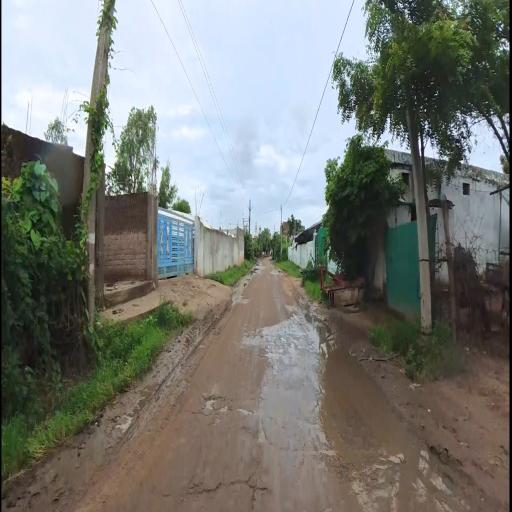longitudinal_crack: (178, 367, 293, 512)
